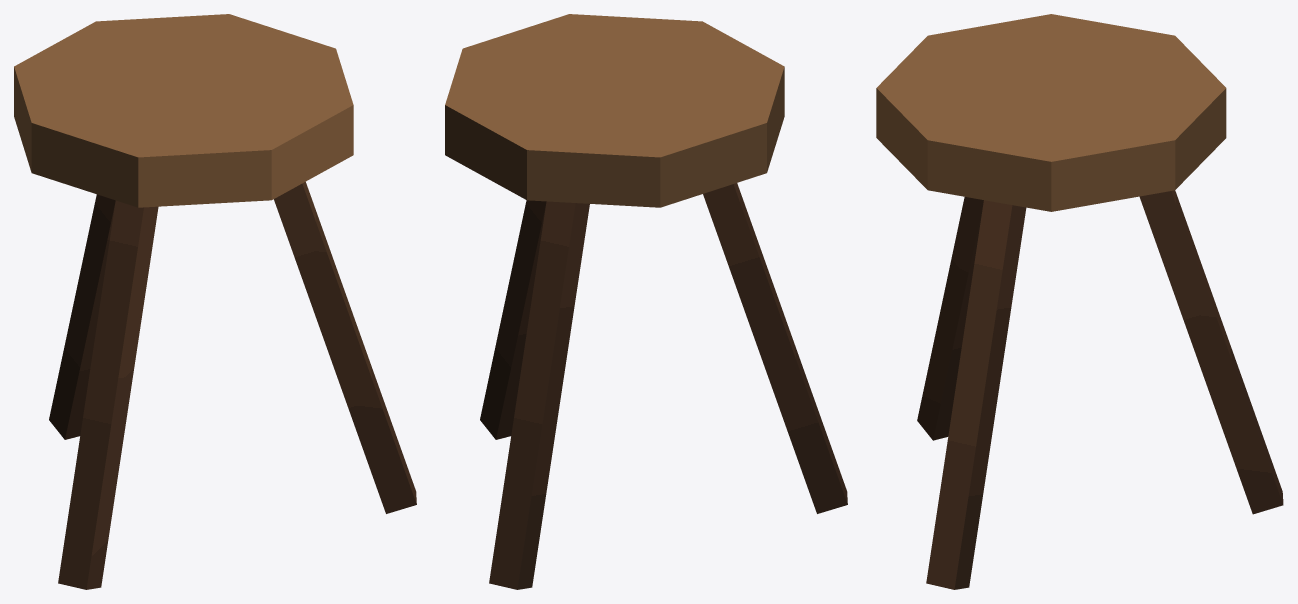
Rendered from stool.glb.
3 views of the same model, side by side, from view 1: azimuth 30°, elevation 25°; view 2: azimuth 150°, elevation 25°; view 3: azimuth 270°, elevation 25° (orthographic).
Bounding box in the file's own units: 0.4533 × 0.5054 × 0.442.
Materials: 1 (1 with a texture image).
